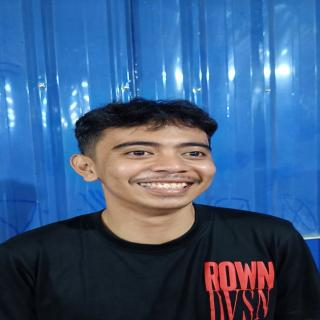Senang: (84, 115, 222, 210)
